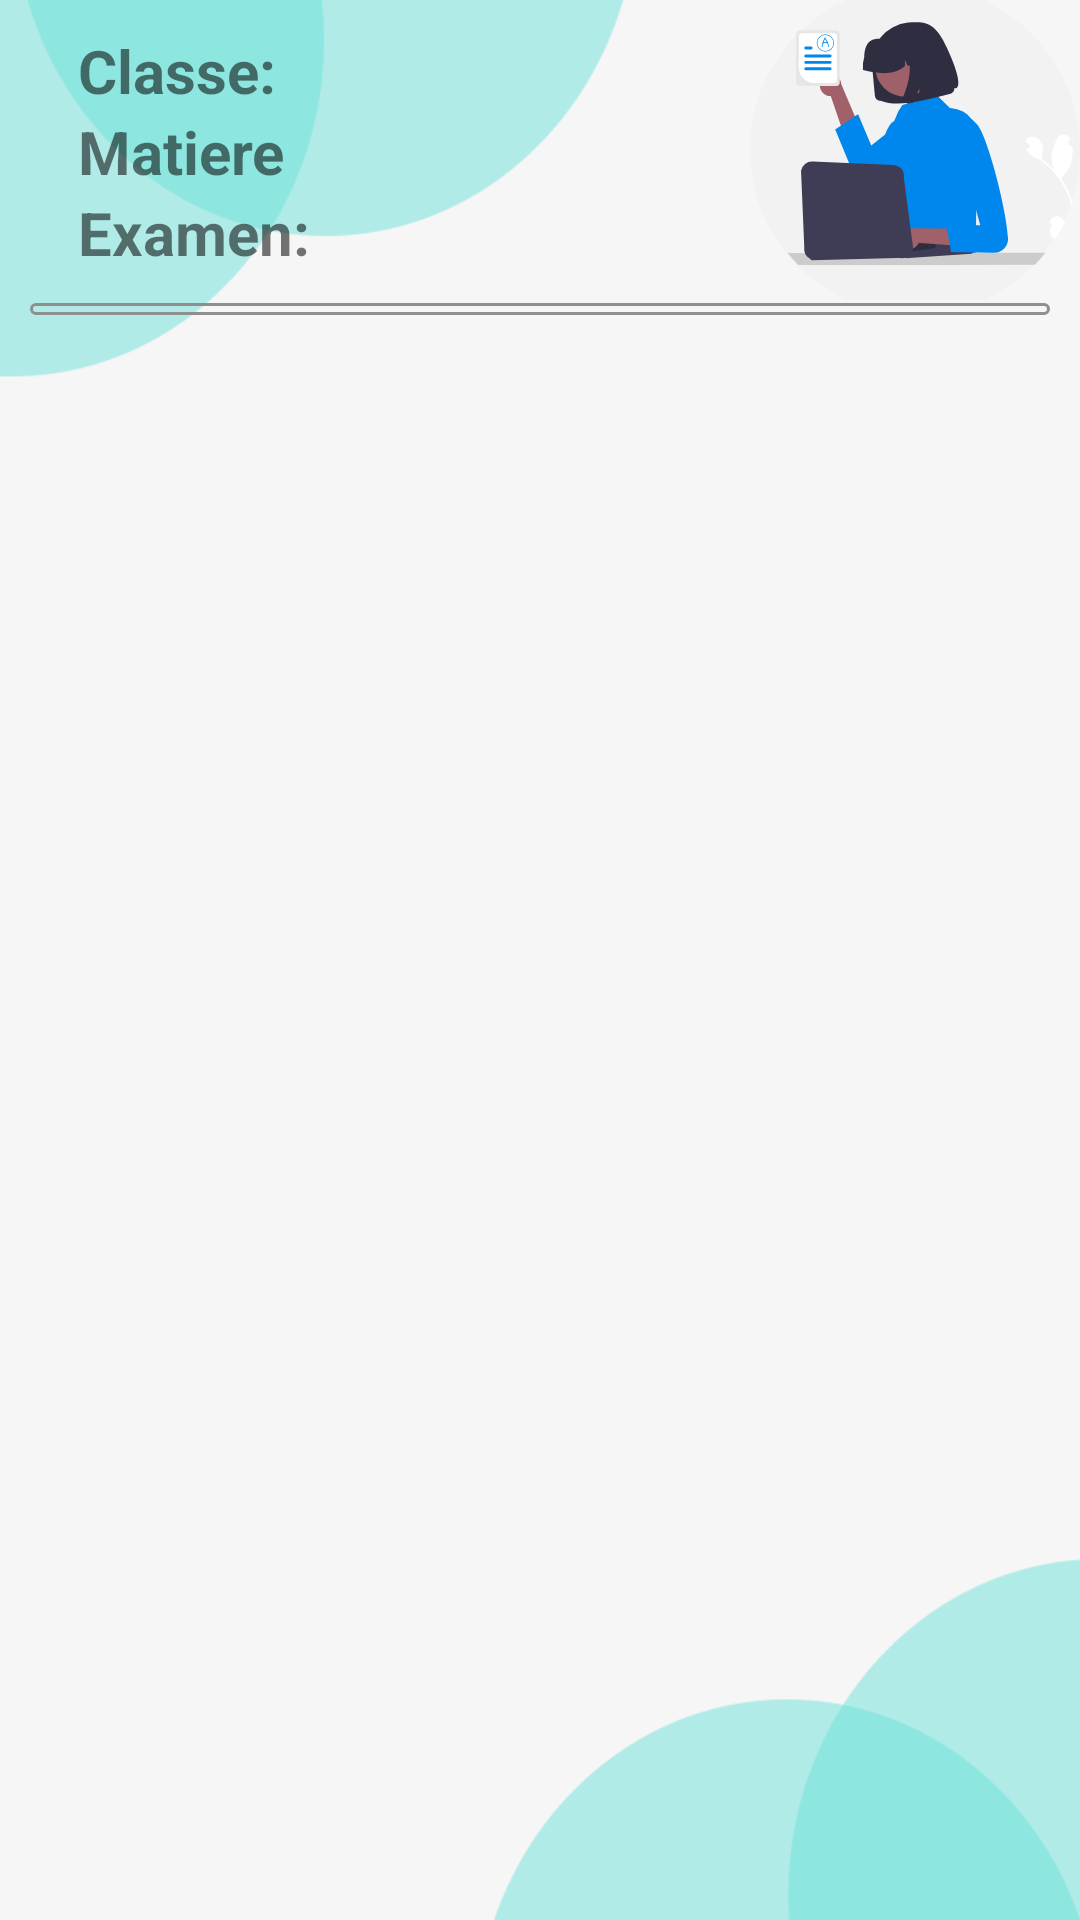

Where icons sit on this 1080*1920 app screen, as (x1,y1,x2,y2):
undraw teacher re sico: (788,22,1045,265)
